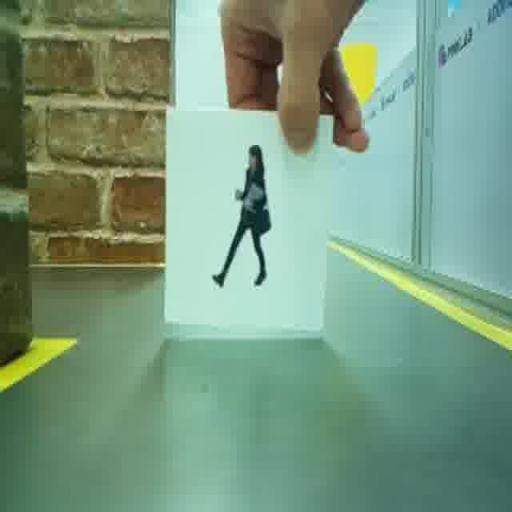human: (212, 145, 270, 286)
